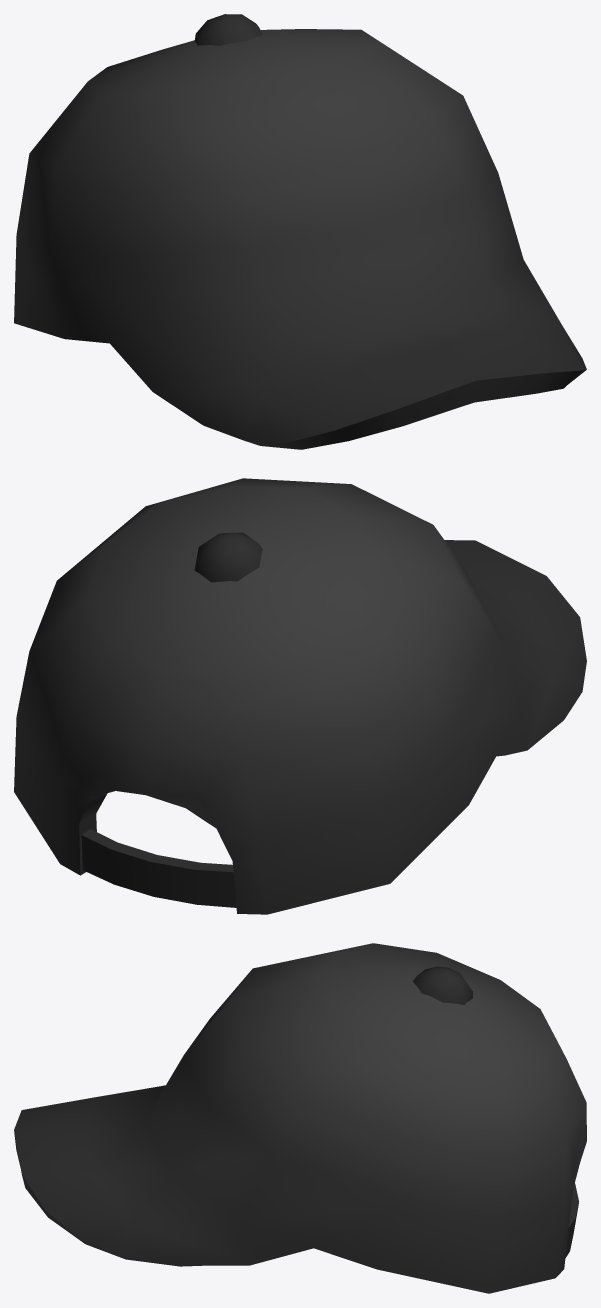
File: Headgear_2.fbx
3 views of the same model, one above another, from view 1: azimuth 30°, elevation 25°; view 2: azimuth 150°, elevation 25°; view 3: azimuth 270°, elevation 25° (orthographic). The views are drawn at different scales.
Parts seen in each view (by area): view 1: Headgear_2; view 2: Headgear_2; view 3: Headgear_2.
Boxes of the visible parts, x1=… form: Headgear_2: x1=14, y1=14, x2=586, y2=449; Headgear_2: x1=14, y1=478, x2=586, y2=914; Headgear_2: x1=14, y1=943, x2=586, y2=1293.
Bounding box in the file's own units: 58.11 × 42.07 × 82.12.
